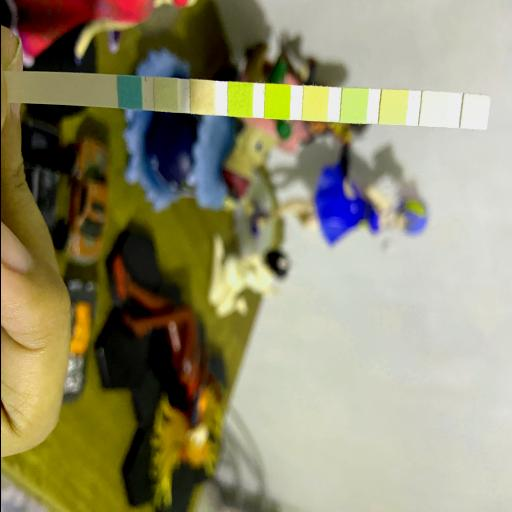Bilirubin: (154, 80, 174, 108)
Blood: (266, 86, 286, 116)
Glucose: (119, 78, 139, 106)
Ketone: (190, 82, 212, 111)
Leukocytes: (464, 98, 484, 127)
Nitrite: (423, 96, 444, 124)
Protein: (342, 91, 364, 120)
SpGravity: (229, 84, 249, 114)
Urobilinogen: (382, 92, 403, 122)
pH: (304, 88, 326, 118)
strip: (7, 71, 489, 129)
